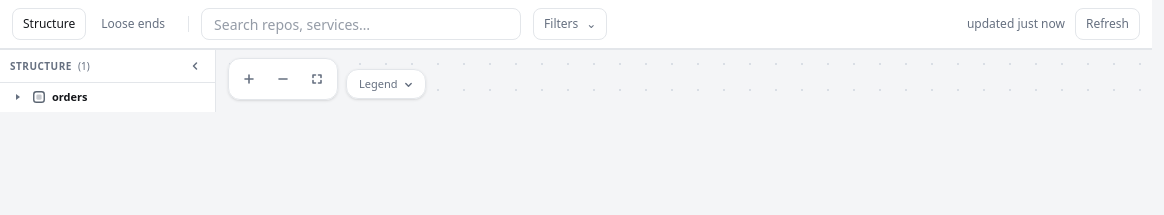
it: MapExplorer — code layer › opens a repo, then Code, then a file: each level is asked of LAIN only when opened
This screenshot has width=1164, height=215.
What coordinates should you click on to do the following:
click the button named "Expand orders"
I would click on:
 (18, 97)
Its box is [10,89,26,105].
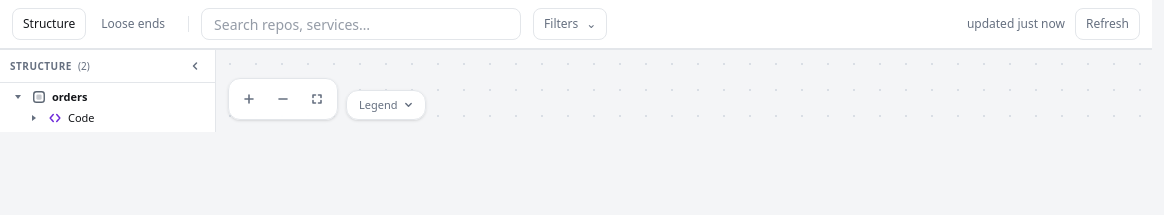
What coordinates should you click on to do the following:
click the button named "Expand Code"
I would click on:
 (34, 118)
Its box is [26,110,42,126].
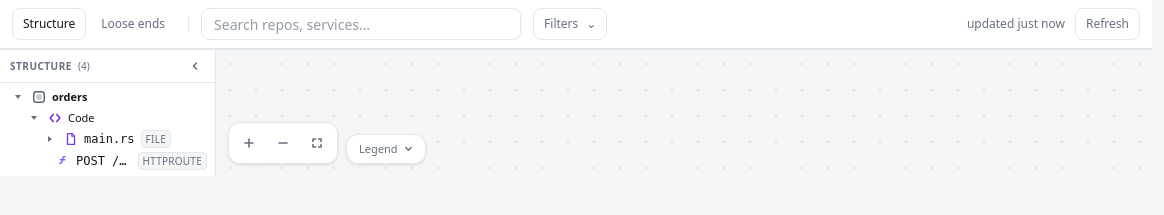
Check: the text "main.rs" is shown, box [84,130,135,148]
What coordinates should you click on to do the following:
click the button named "Expand main.rs"
I would click on:
 (50, 139)
Its box is [42,131,58,147].
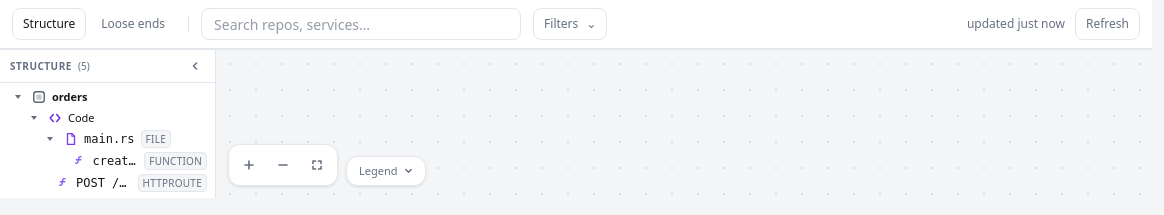
Check: the text "Code" is shown, box [68,110,95,126]
Check: the text "create_order" is shown, box [92,152,138,170]
